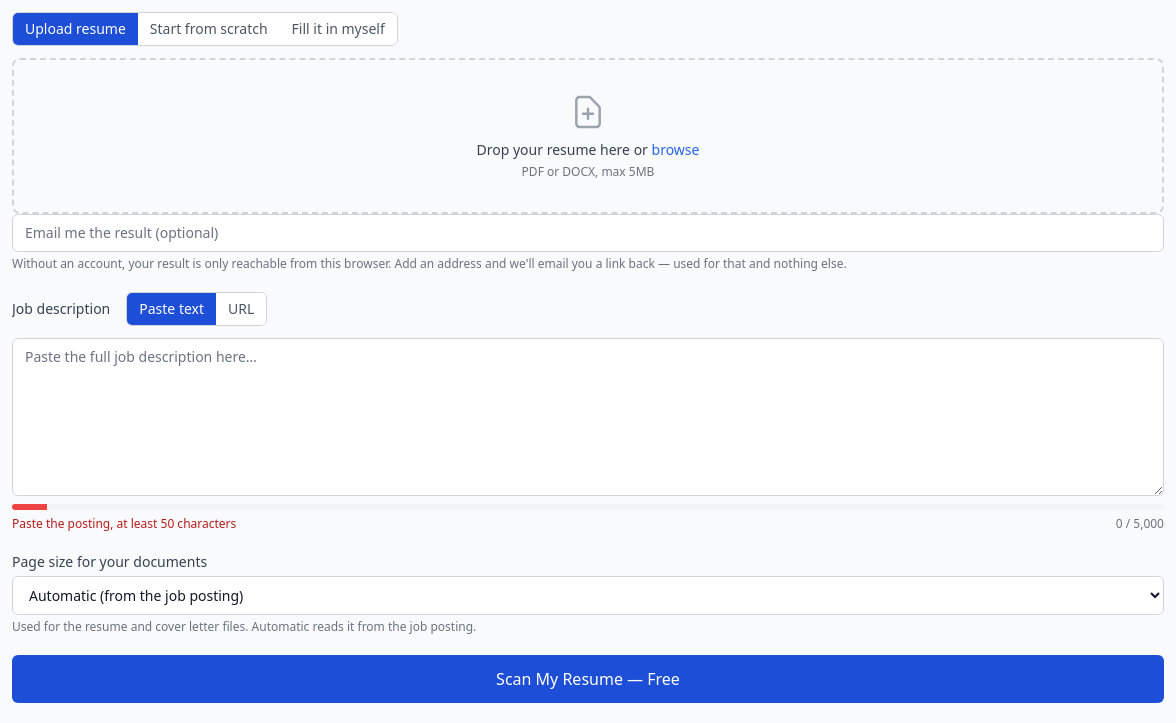
it: the homepage card says what the /scan page says › a LinkedIn link is flagged while it is typed, with the way out
The width and height of the screenshot is (1176, 723).
Click the button "URL".
click(241, 309)  # box [216, 293, 266, 325]
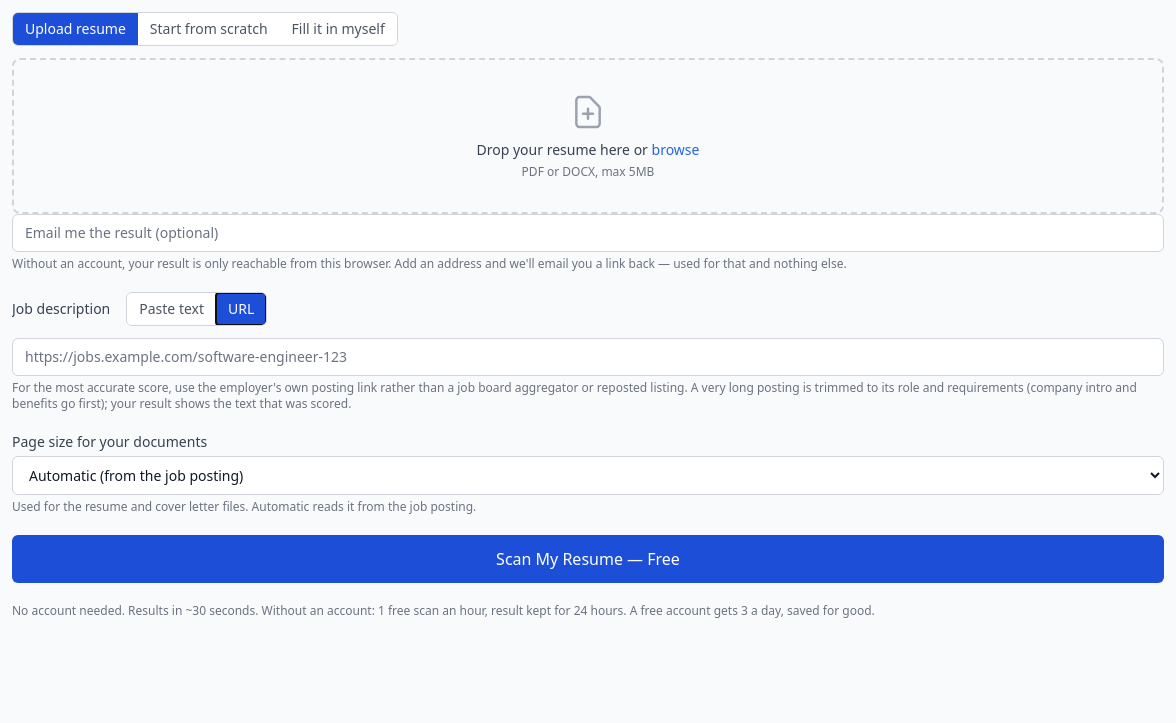
Type "https://www.linkedin.com/jobs/view/1" into the field with placeholder "https://jobs.example.com/software-engineer-123".
click(588, 357); type("https://www.linkedin.com/jobs/view/1")  # box [12, 338, 1164, 376]
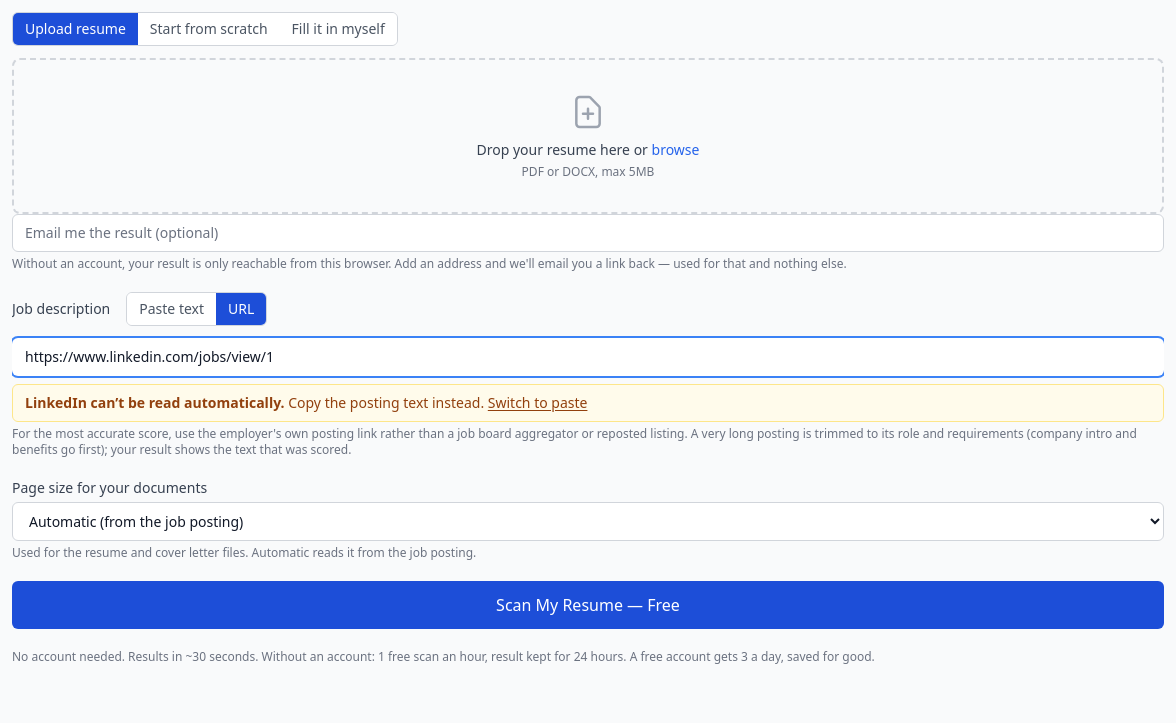
Click the button "Switch to paste".
click(538, 403)  # box [488, 393, 588, 413]
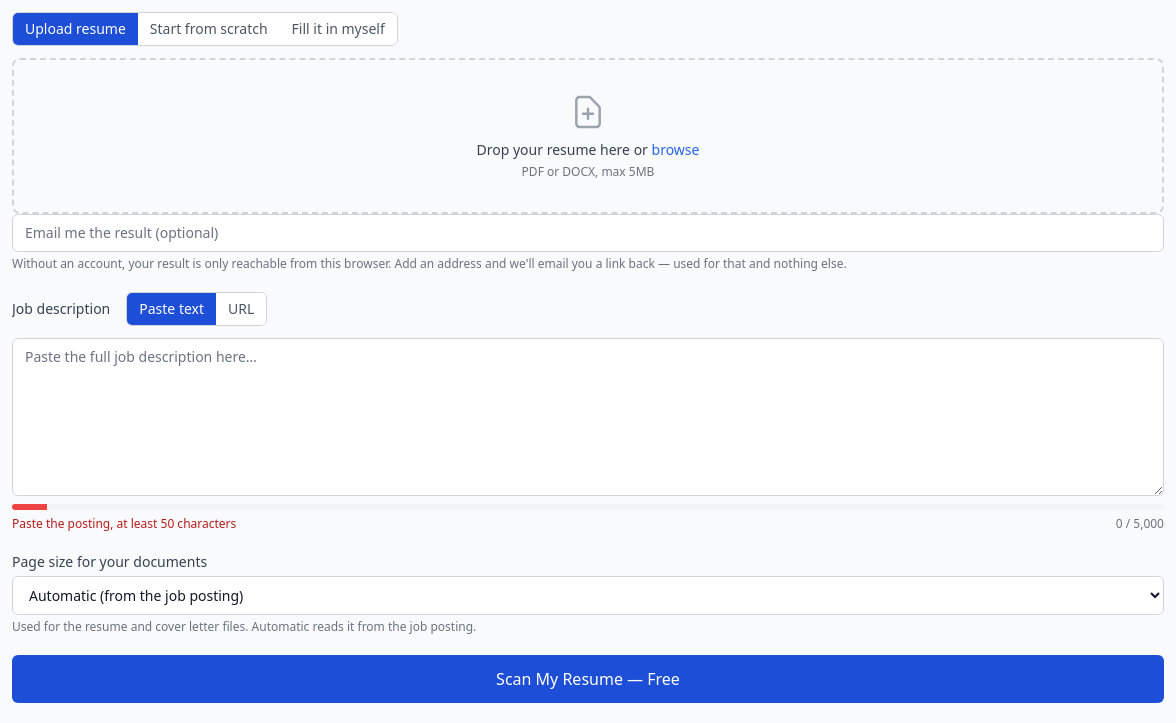
Now the text box with placeholder "Paste the full job description here…" is shown, box [12, 338, 1164, 496]
